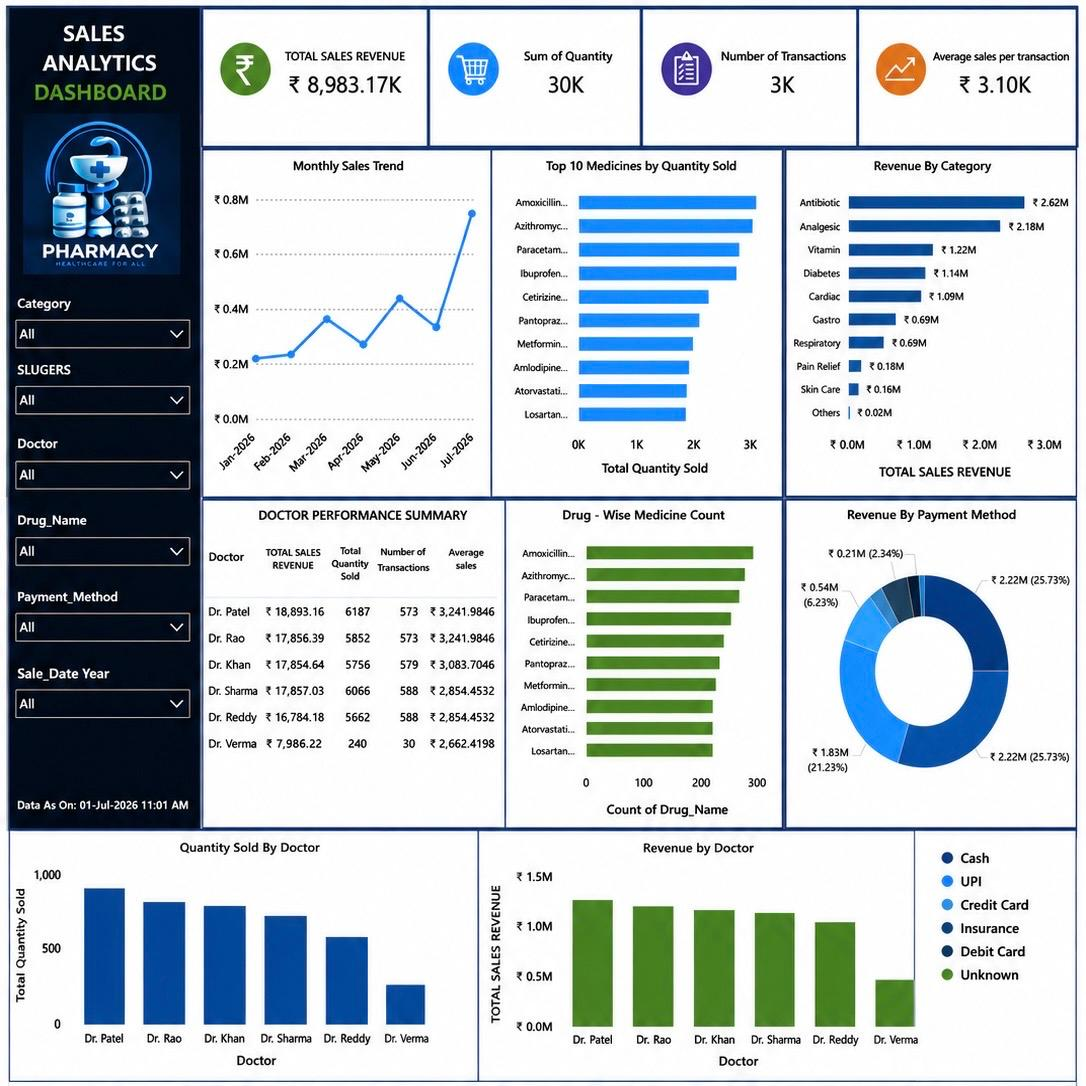

This screenshot's page, from the dashboard's own definition file:
{"tool":"powerbi","page":{"name":": Pharmacy Sales Analytics Dashboard ","canvas":[2200,1500],"ordinal":0},"visuals":[{"type":"textbox","box":[10,0,280,280],"z":0},{"type":"shape","box":[0,0,402.5,1500.5],"z":1000},{"type":"textbox","box":[8.2,10.2,395.4,199.7],"z":2000},{"type":"image","box":[0,206.4,402.5,287.9],"z":3000},{"type":"textbox","box":[0,494.2,402.5,45.9],"z":4000},{"type":"slicer","fields":{"Values":["pharmacy_sales_messy_3000_recor.Category"]},"box":[7,540.1,392.3,92],"z":5000},{"type":"slicer","fields":{"Values":["pharmacy_sales_messy_3000_recor.Drug_Name"]},"box":[5.1,777,394.9,94.3],"z":6000},{"type":"slicer","fields":{"Values":["pharmacy_sales_messy_3000_recor.Doctor"]},"box":[2.5,657.3,397.4,91.7],"z":7000},{"type":"slicer","fields":{"Values":["pharmacy_sales_messy_3000_recor.Payment_Method"]},"box":[5.1,914.6,394.9,104.5],"z":8000},{"type":"slicer","fields":{"Values":["pharmacy_sales_messy_3000_recor.Sale_Date","pharmacy_sales_messy_3000_recor.Sale_Date.Variation.Date Hierarchy.Year"]},"box":[7.6,1062.3,392.3,101.9],"z":9000},{"type":"cardVisual","fields":{"Data":["pharmacy_sales_messy_3000_recor.TOTAL SALES REVENUE"]},"box":[407.6,0,404,315.6],"z":10000},{"type":"cardVisual","fields":{"Data":["Sum(pharmacy_sales_messy_3000_recor.Quantity)"]},"box":[823.6,0,430.2,309.4],"z":11000},{"type":"cardVisual","fields":{"Data":["pharmacy_sales_messy_3000_recor.Number of Transactions"]},"box":[1266.2,0,429.8,309.1],"z":12000},{"type":"cardVisual","fields":{"Data":["pharmacy_sales_messy_3000_recor.Average sales per transaction"]},"box":[1710.9,0,489.1,309.1],"z":13000},{"type":"lineChart","title":"Monthly Sales Trend","fields":{"Category":["pharmacy_sales_messy_3000_recor.Sale_Date.Variation.Date Hierarchy.Month"],"Y":["pharmacy_sales_messy_3000_recor.Total sales"]},"box":[407.6,318.4,578.3,359.2],"z":14000},{"type":"clusteredBarChart","title":"Revenue by Category","fields":{"Category":["pharmacy_sales_messy_3000_recor.Category"],"Y":["pharmacy_sales_messy_3000_recor.TOTAL SALES REVENUE"]},"box":[1001.2,318.4,598.7,359.2],"z":15000},{"type":"donutChart","title":"Revenue by Payment Method","fields":{"Category":["pharmacy_sales_messy_3000_recor.Payment_Method"],"Y":["pharmacy_sales_messy_3000_recor.TOTAL SALES REVENUE"]},"box":[1617.7,310.8,583.4,351.6],"z":16000},{"type":"clusteredBarChart","title":"Top 10 Medicines by Quantity Sold","fields":{"Category":["pharmacy_sales_messy_3000_recor.Drug_Name"],"Y":["pharmacy_sales_messy_3000_recor.Total Quantity Sold"]},"box":[407.6,680.2,578.3,415.3],"z":17000},{"type":"barChart","title":"Drug -Wise Medicine Count","fields":{"Category":["pharmacy_sales_messy_3000_recor.Drug_Name"],"Y":["CountNonNull(pharmacy_sales_messy_3000_recor.Drug_Name)"]},"box":[1001.2,680.2,598.7,415.3],"z":18000},{"type":"clusteredBarChart","title":"Revenue by Doctor","fields":{"Category":["pharmacy_sales_messy_3000_recor.Doctor"],"Y":["pharmacy_sales_messy_3000_recor.TOTAL SALES REVENUE"]},"box":[1617.7,680.2,583.4,415.3],"z":19000},{"type":"tableEx","title":"DOCTOR PERFORMANCE SUMMARY","fields":{"Values":["pharmacy_sales_messy_3000_recor.Doctor","pharmacy_sales_messy_3000_recor.TOTAL SALES REVENUE","pharmacy_sales_messy_3000_recor.Total Quantity Sold","pharmacy_sales_messy_3000_recor.Number of Transactions","pharmacy_sales_messy_3000_recor.Average sales"]},"box":[407.6,1112.8,1040.7,386],"z":20000},{"type":"clusteredColumnChart","title":"Quantity Sold by Doctor","fields":{"Category":["pharmacy_sales_messy_3000_recor.Category"],"Y":["CountNonNull(pharmacy_sales_messy_3000_recor.Category)"]},"box":[1460.9,1112.8,739.5,387.8],"z":21000},{"type":"image","box":[443.7,101,88.4,117.2],"z":22000},{"type":"image","box":[889.2,113.6,124.4,83],"z":23000},{"type":"image","box":[1300.4,110,115.4,95.6],"z":24000},{"type":"image","box":[1735,119,113.6,83],"z":25000},{"type":"cardVisual","fields":{"Data":["pharmacy_sales_messy_3000_recor.Data As On"]},"box":[2.5,1271.2,400,137.6],"z":26000}]}

Visuals, with their boxes in screenshot pixels (x1, y1, x2, y2):
textbox: 8,3,144,139
shape: 3,3,199,733
textbox: 7,8,199,105
image: 3,103,199,243
textbox: 3,243,199,266
slicer - pharmacy_sales_messy_3000_recor.Category: 6,266,197,311
slicer - pharmacy_sales_messy_3000_recor.Drug_Name: 5,381,198,427
slicer - pharmacy_sales_messy_3000_recor.Doctor: 4,323,198,367
slicer - pharmacy_sales_messy_3000_recor.Payment_Method: 5,448,198,499
slicer - pharmacy_sales_messy_3000_recor.Sale_Date x pharmacy_sales_messy_3000_recor.Sale_Date.Variation.Date Hierarchy.Year: 7,520,198,570
cardVisual - pharmacy_sales_messy_3000_recor.TOTAL SALES REVENUE: 201,3,398,156
cardVisual - Sum(pharmacy_sales_messy_3000_recor.Quantity): 404,3,613,153
cardVisual - pharmacy_sales_messy_3000_recor.Number of Transactions: 619,3,828,153
cardVisual - pharmacy_sales_messy_3000_recor.Average sales per transaction: 836,3,1074,153
"Monthly Sales Trend" lineChart: 201,158,483,333
"Revenue by Category" clusteredBarChart: 490,158,782,333
"Revenue by Payment Method" donutChart: 790,154,1074,325
"Top 10 Medicines by Quantity Sold" clusteredBarChart: 201,334,483,536
"Drug -Wise Medicine Count" barChart: 490,334,782,536
"Revenue by Doctor" clusteredBarChart: 790,334,1074,536
"DOCTOR PERFORMANCE SUMMARY" tableEx: 201,545,708,732
"Quantity Sold by Doctor" clusteredColumnChart: 714,545,1074,733
image: 219,52,262,109
image: 436,58,496,99
image: 636,56,692,103
image: 847,61,903,101
cardVisual - pharmacy_sales_messy_3000_recor.Data As On: 4,622,199,689
